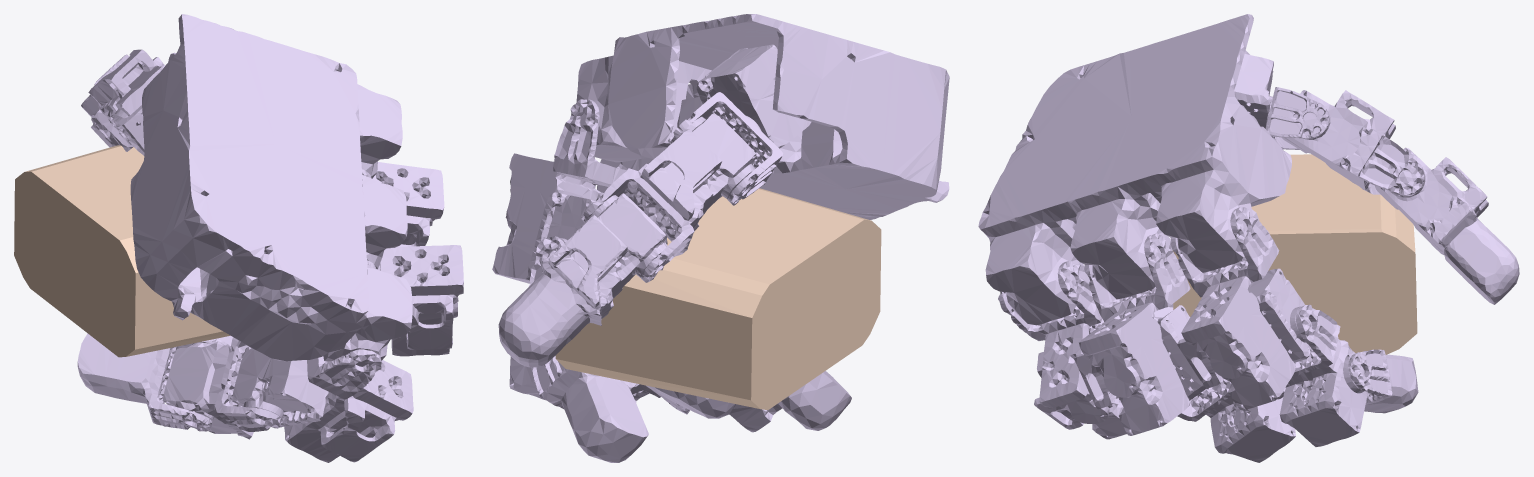
3 renders of one model, left to right at view 1: azimuth 30°, elevation 25°; view 2: azimuth 150°, elevation 25°; view 3: azimuth 270°, elevation 25°, orthographic. The views are drawn at different scales.
Visible parts, largest first — view 1: LEAP_hand, world; view 2: LEAP_hand, world; view 3: LEAP_hand, world.
Part boxes in pixels (x1,y1,x2,y2): LEAP_hand: [77, 14, 463, 462]; world: [14, 145, 230, 357]; LEAP_hand: [492, 14, 949, 462]; world: [555, 188, 881, 409]; LEAP_hand: [978, 14, 1519, 462]; world: [1172, 154, 1417, 354].
Bounding box in the file's own units: 0.1604 × 0.1798 × 0.2246.
